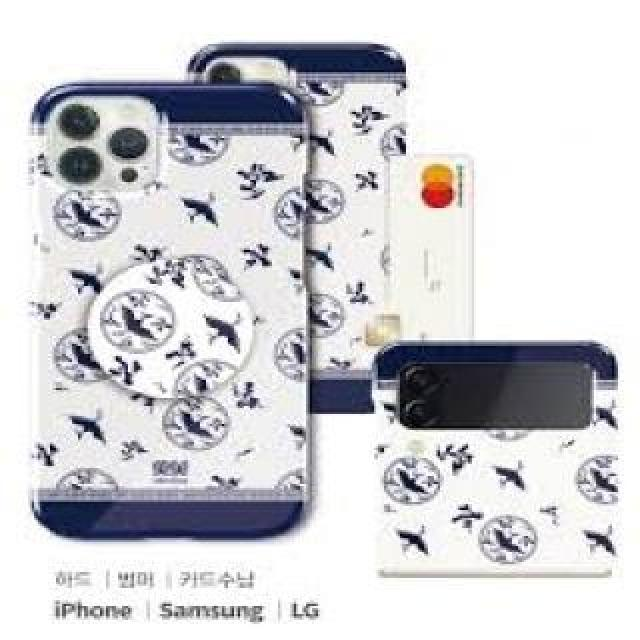smart phone: (18, 58, 300, 540), (360, 325, 637, 583), (308, 38, 422, 410)
